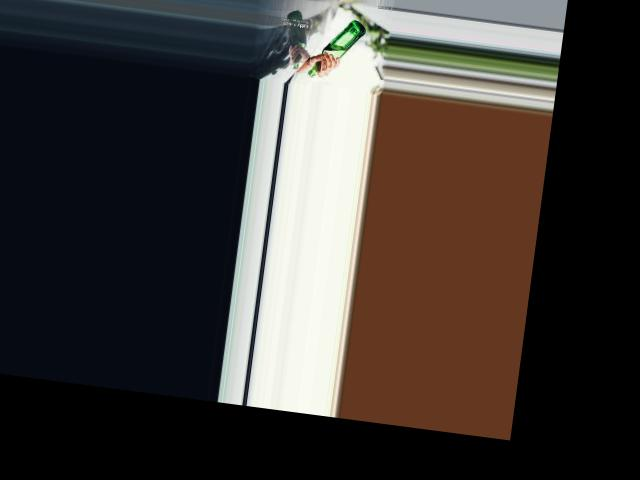beer: (306, 14, 366, 82)
